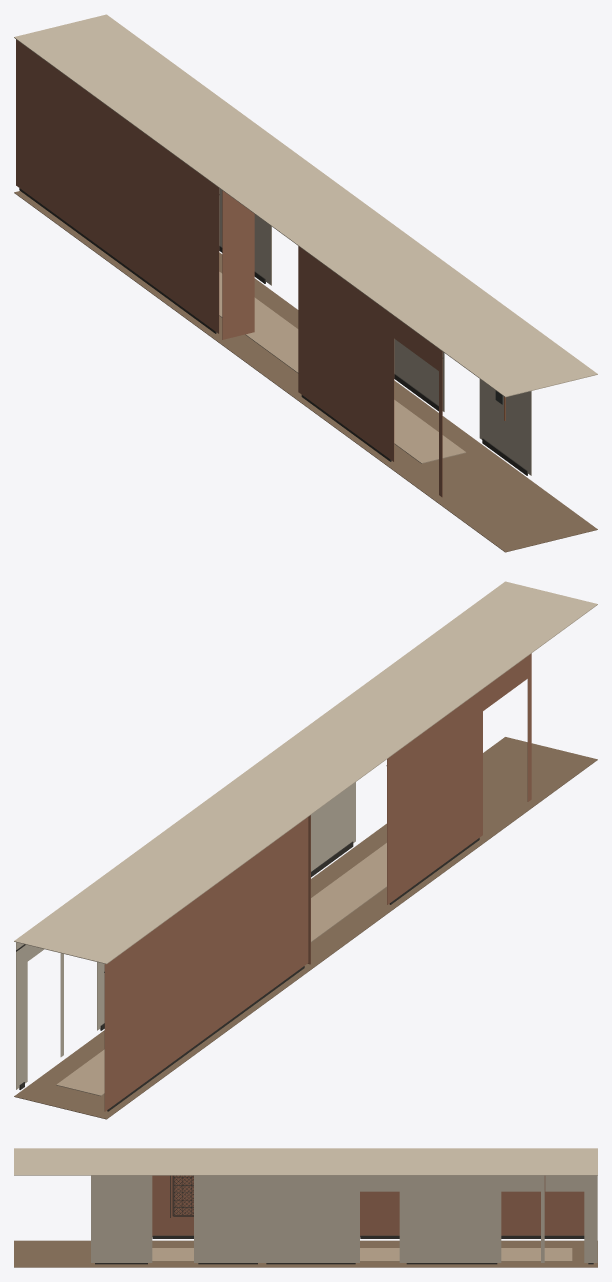
Rendered from corridor-1.glb.
3 renders of one model, top to bottom at view 1: azimuth 30°, elevation 25°; view 2: azimuth 150°, elevation 25°; view 3: azimuth 270°, elevation 25°, orthographic. The views are drawn at different scales.
Parts seen in each view (by area): view 1: DESIGN | Entrance coordinated ceiling, DESIGN | Entrance paired wall finish, DESIGN | Entrance floor finish, DESIGN | Entrance paired wall finish.003, DESIGN | Entrance quiet runner, DESIGN | Arch approach finish, DESIGN | Entrance paired wall finish.013, DESIGN | Entrance paired wall finish.012, DESIGN | Entrance paired wall finish.006, DESIGN | Entrance paired wall finish.002; view 2: DESIGN | Entrance coordinated ceiling, DESIGN | Entrance paired wall finish, DESIGN | Entrance floor finish, DESIGN | Entrance paired wall finish.003, DESIGN | Entrance quiet runner, DESIGN | Entrance paired wall finish.012, DESIGN | Entrance paired wall finish.005, DESIGN | Entrance paired wall finish.002, DESIGN | Entrance paired wall finish.001; view 3: DESIGN | Entrance coordinated ceiling, DESIGN | Entrance paired wall finish.006, DESIGN | Entrance paired wall finish.009, DESIGN | Entrance floor finish, DESIGN | Entrance paired wall finish.012, DESIGN | Entrance paired wall finish, DESIGN | Entrance paired wall finish.013, DESIGN | Entrance paired wall finish.003, DESIGN | Entrance quiet runner, DESIGN | Entrance paired wall finish.005, DESIGN | Entrance paired wall finish.007, DESIGN | Entrance paired wall finish.010 (+6 smaller).
Part boxes in pixels (<box>): DESIGN | Entrance coordinated ceiling: <box>14,14,597,397</box>; DESIGN | Entrance paired wall finish: <box>16,39,219,333</box>; DESIGN | Entrance floor finish: <box>14,191,597,552</box>; DESIGN | Entrance paired wall finish.003: <box>298,246,394,461</box>; DESIGN | Entrance quiet runner: <box>219,272,466,463</box>; DESIGN | Arch approach finish: <box>222,190,254,339</box>; DESIGN | Entrance paired wall finish.013: <box>479,379,531,475</box>; DESIGN | Entrance paired wall finish.012: <box>394,339,444,411</box>; DESIGN | Entrance paired wall finish.006: <box>219,188,268,283</box>; DESIGN | Entrance paired wall finish.002: <box>394,316,438,370</box>; DESIGN | Entrance coordinated ceiling: <box>14,581,597,964</box>; DESIGN | Entrance paired wall finish: <box>104,817,308,1111</box>; DESIGN | Entrance floor finish: <box>14,737,597,1119</box>; DESIGN | Entrance paired wall finish.003: <box>387,689,482,904</box>; DESIGN | Entrance quiet runner: <box>56,843,386,1096</box>; DESIGN | Entrance paired wall finish.012: <box>311,782,355,871</box>; DESIGN | Entrance paired wall finish.005: <box>16,942,27,1089</box>; DESIGN | Entrance paired wall finish.002: <box>483,656,527,710</box>; DESIGN | Entrance paired wall finish.001: <box>527,653,531,801</box>; DESIGN | Entrance coordinated ceiling: <box>14,1148,597,1175</box>; DESIGN | Entrance paired wall finish.006: <box>402,1175,501,1262</box>; DESIGN | Entrance paired wall finish.009: <box>262,1175,359,1262</box>; DESIGN | Entrance floor finish: <box>14,1240,597,1267</box>; DESIGN | Entrance paired wall finish.012: <box>194,1175,262,1262</box>; DESIGN | Entrance paired wall finish: <box>360,1176,584,1236</box>; DESIGN | Entrance paired wall finish.013: <box>91,1175,152,1262</box>; DESIGN | Entrance paired wall finish.003: <box>152,1175,193,1236</box>; DESIGN | Entrance quiet runner: <box>152,1248,572,1261</box>; DESIGN | Entrance paired wall finish.005: <box>584,1175,597,1262</box>; DESIGN | Entrance paired wall finish.007: <box>501,1175,540,1191</box>; DESIGN | Entrance paired wall finish.010: <box>360,1175,399,1191</box>.
Size of the model in its own units: 1.7 by 2.73 by 15.61.
